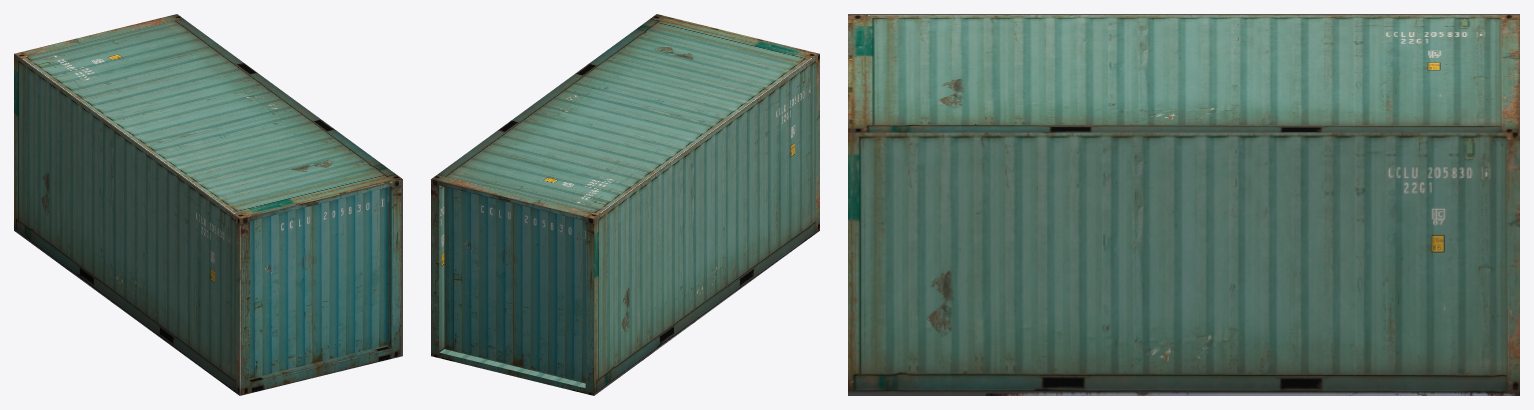
3 views of the same model, side by side, from view 1: azimuth 30°, elevation 25°; view 2: azimuth 150°, elevation 25°; view 3: azimuth 270°, elevation 25° (orthographic). The views are drawn at different scales.
Parts seen in each view (by area): view 1: Model; view 2: Model; view 3: Model.
Part boxes in pixels (x1,y1,x2,y2): Model: (14, 14, 402, 395); Model: (431, 14, 819, 395); Model: (848, 14, 1519, 395).
Size of the model in its own units: 132 by 137 by 316.
